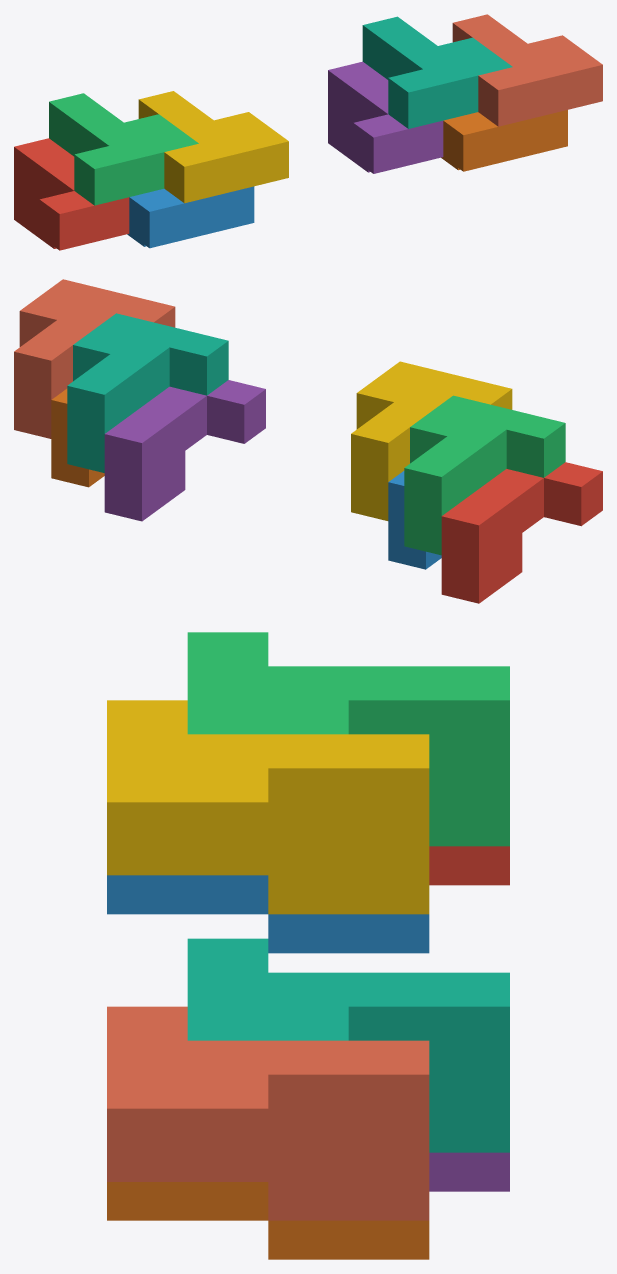
The model's file is tiling.obj.
The picture shows the model from 3 angles, top to bottom: view 1: azimuth 30°, elevation 25°; view 2: azimuth 150°, elevation 25°; view 3: azimuth 270°, elevation 25°; orthographic projection. The views are drawn at different scales.
Parts seen in each view (by area): view 1: copy_1_domain_7, copy_1_domain_3, copy_1_domain_8, copy_1_domain_4, copy_1_domain_5, copy_1_domain_1, copy_1_domain_2, copy_1_domain_6; view 2: copy_1_domain_3, copy_1_domain_7, copy_1_domain_5, copy_1_domain_1, copy_1_domain_4, copy_1_domain_8, copy_1_domain_2, copy_1_domain_6; view 3: copy_1_domain_4, copy_1_domain_8, copy_1_domain_3, copy_1_domain_7, copy_1_domain_2, copy_1_domain_6, copy_1_domain_1, copy_1_domain_5.
Part boxes in pixels (x1,y1,x2,y2): copy_1_domain_7: (362,16,512,128); copy_1_domain_3: (49,93,198,205); copy_1_domain_8: (452,14,602,126); copy_1_domain_4: (138,91,288,203); copy_1_domain_5: (328,61,443,173); copy_1_domain_1: (14,138,129,250); copy_1_domain_2: (127,186,254,248); copy_1_domain_6: (441,110,567,171); copy_1_domain_3: (404,395,565,555); copy_1_domain_7: (67,313,228,472); copy_1_domain_5: (104,380,265,521); copy_1_domain_1: (441,462,602,603); copy_1_domain_4: (351,361,512,520); copy_1_domain_8: (14,279,175,438); copy_1_domain_2: (388,471,441,569); copy_1_domain_6: (51,388,104,487); copy_1_domain_4: (107,700,429,914); copy_1_domain_8: (107,1006,429,1220); copy_1_domain_3: (187,632,509,846); copy_1_domain_7: (187,938,509,1152); copy_1_domain_2: (107,875,429,953); copy_1_domain_6: (107,1182,429,1259); copy_1_domain_1: (429,846,509,885); copy_1_domain_5: (429,1152,509,1191).
Bounding box in the file's own units: 15 × 3 × 5.
